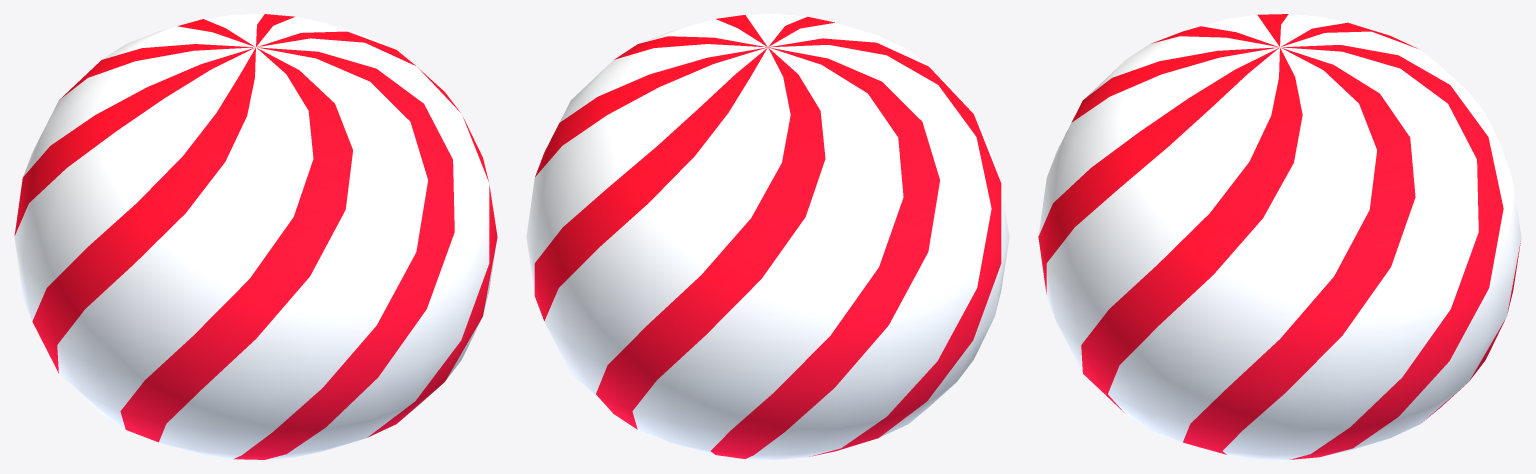
Rendered from Lollipop_12.glb.
The picture shows the model from 3 angles, left to right: view 1: azimuth 30°, elevation 25°; view 2: azimuth 150°, elevation 25°; view 3: azimuth 270°, elevation 25°; orthographic projection.
Parts seen in each view (by area): view 1: Lollipop_12; view 2: Lollipop_12; view 3: Lollipop_12.
Part boxes in pixels (x1,y1,x2,y2): Lollipop_12: (14, 14, 497, 459); Lollipop_12: (526, 14, 1009, 459); Lollipop_12: (1038, 14, 1521, 459).
Size of the model in its own units: 2.1 by 1.82 by 2.1.
1 material, 1 textured.
